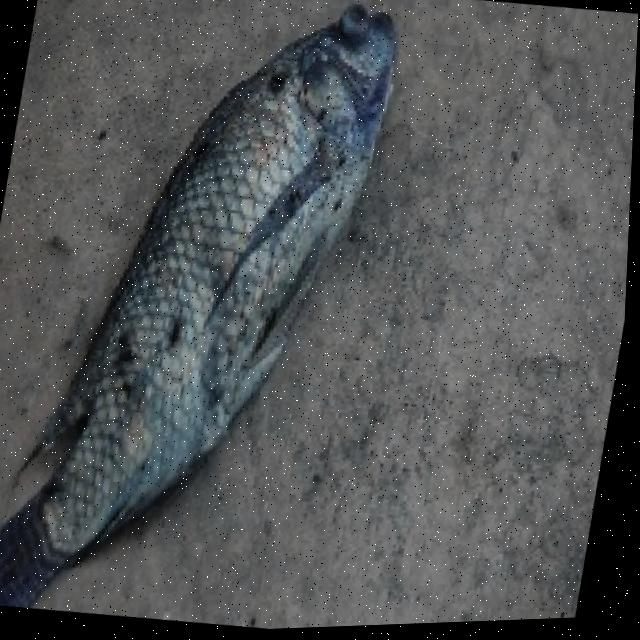Non-Fresh: (194, 0, 407, 379)
